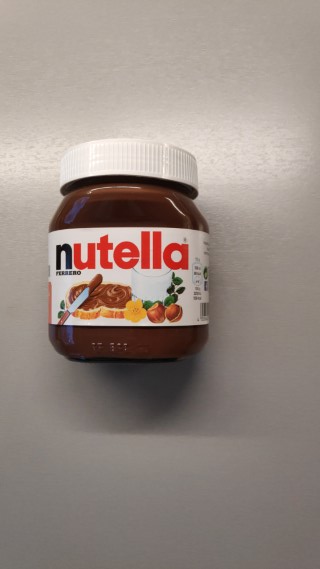nutella: (41, 132, 212, 366)
